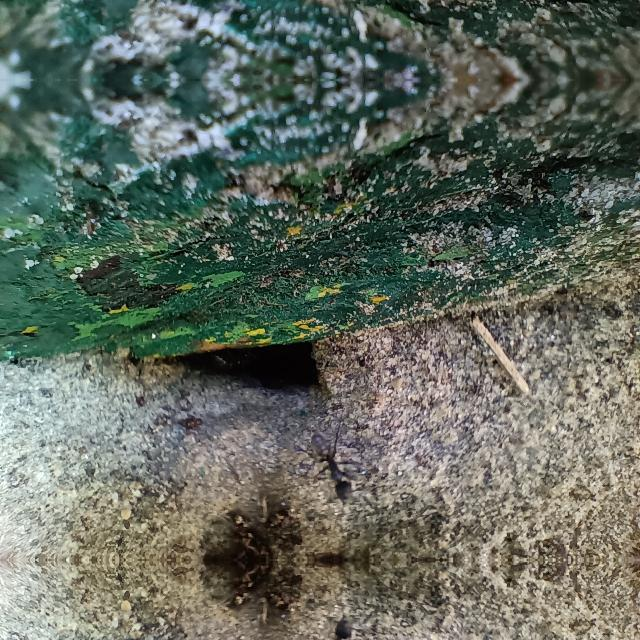Camponotus: (299, 422, 365, 504), (299, 614, 365, 640)
